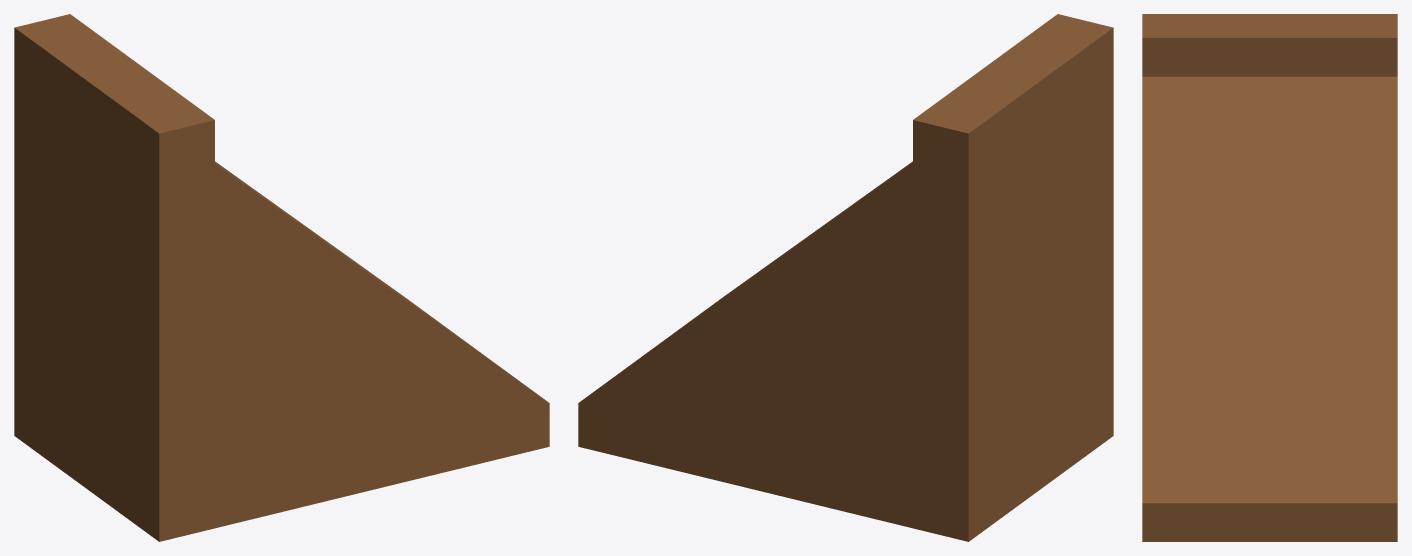
The model's file is rack-gusset.glb.
3 views of the same model, side by side, from view 1: azimuth 30°, elevation 25°; view 2: azimuth 150°, elevation 25°; view 3: azimuth 270°, elevation 25° (orthographic). The views are drawn at different scales.
Visible parts, largest first — view 1: Gusset; view 2: Gusset; view 3: Gusset.
Part boxes in pixels (box(x1,y1,x2,y2)): Gusset: box(14, 14, 549, 541); Gusset: box(578, 14, 1113, 541); Gusset: box(1142, 14, 1397, 541).
Size of the model in its own units: 0.028 by 0.028 by 0.018.
